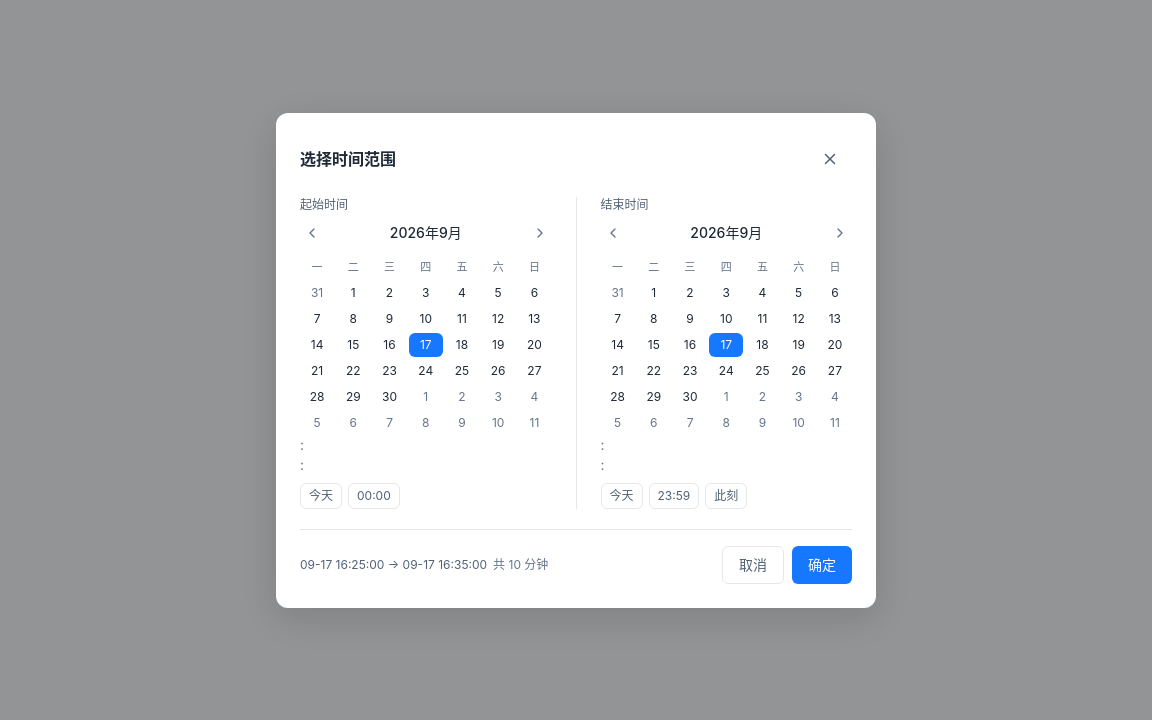
Test case: DateTimeRangePicker —— 两个面板各自独立 › 点月份标题进入年月网格，选某月后回到日视图
Click the button "2026年9月" below "起始时间" at (426, 232), box 382,220 -> 470,244
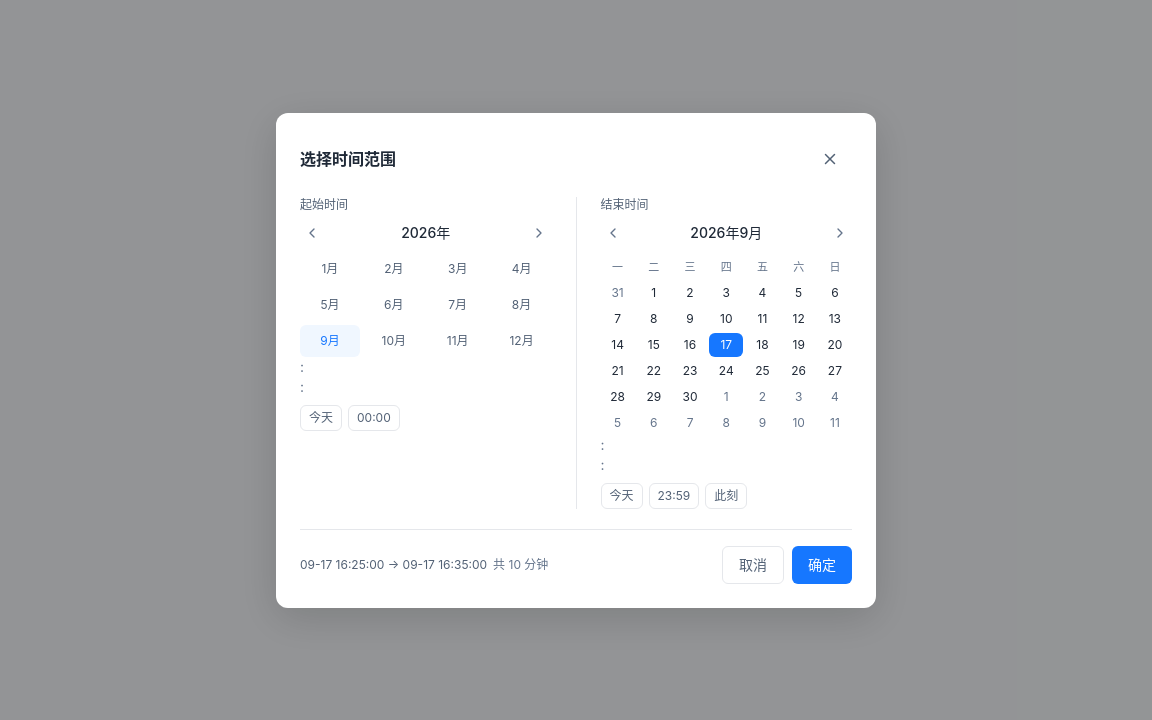
Click the button "12月" at (522, 340), box 492,324 -> 552,356
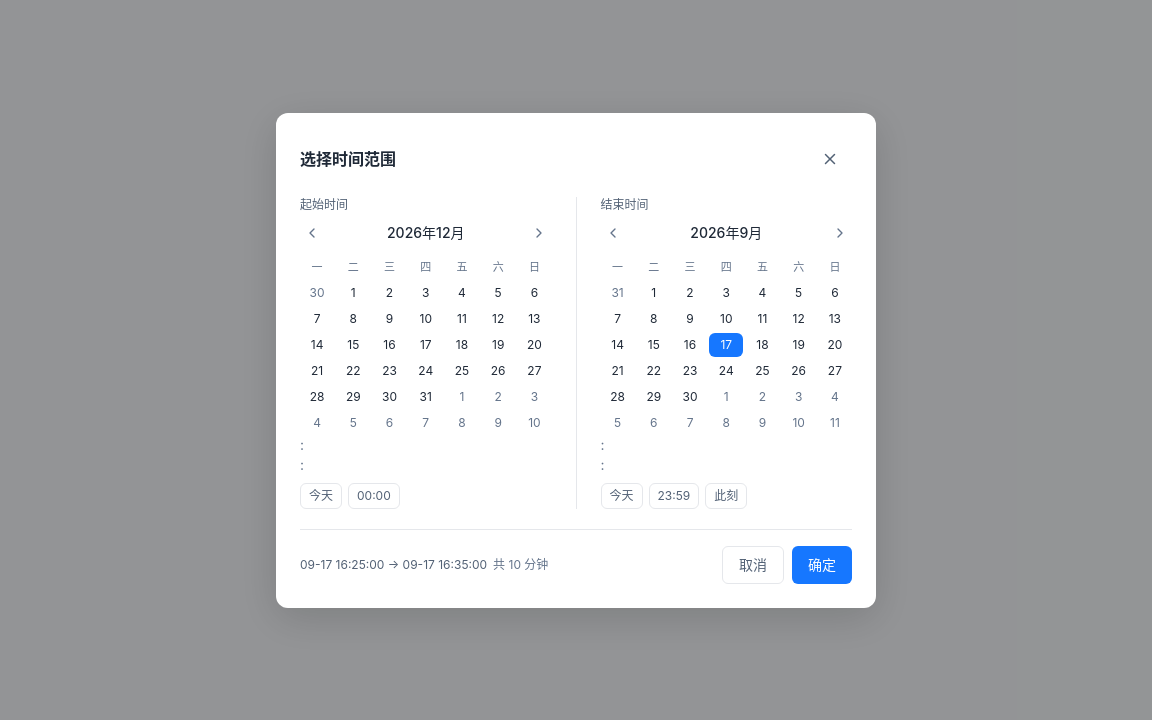
Expected: the button "2026年12月" is shown, 379,220 -> 472,244
Expected: the button named "2026年12月1日" is shown, 336,280 -> 370,304
